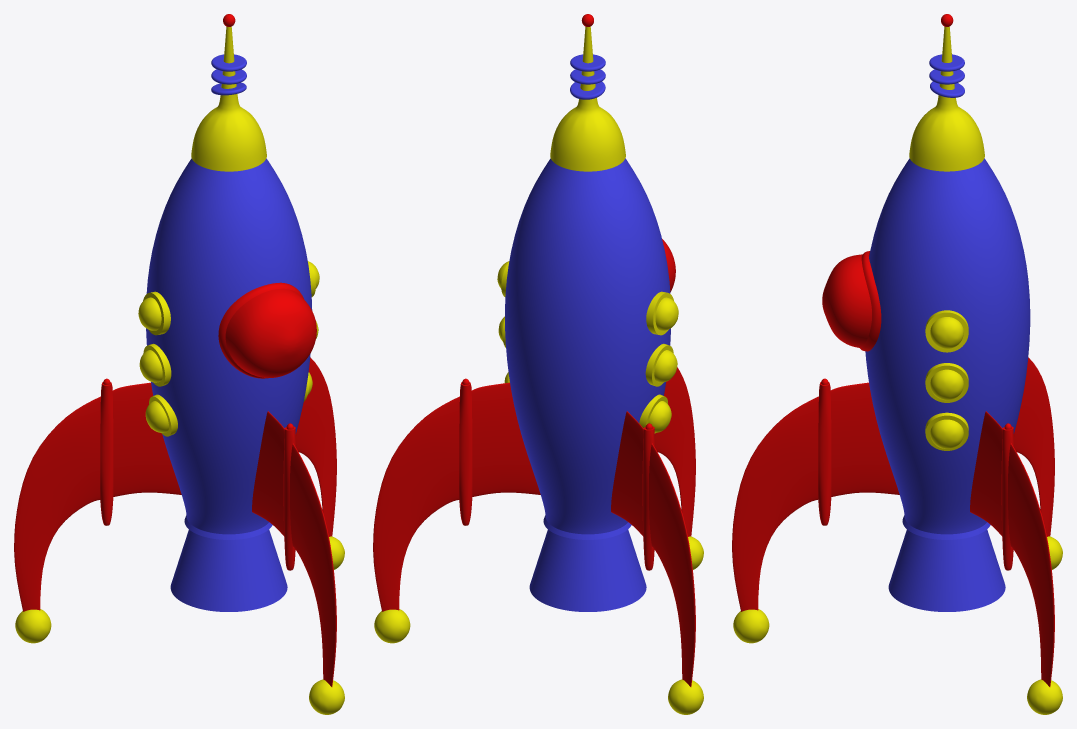
Rendered from Foguete Modelagem.fbx.
3 views of the same model, side by side, from view 1: azimuth 30°, elevation 25°; view 2: azimuth 150°, elevation 25°; view 3: azimuth 270°, elevation 25° (orthographic).
Visible parts, largest first — view 1: polySurface3; view 2: polySurface3; view 3: polySurface3.
Boxes of the visible parts, <box> form: polySurface3: <box>14,14,344,714</box>; polySurface3: <box>373,14,703,714</box>; polySurface3: <box>732,14,1062,714</box>.
Size of the model in its own units: 9.04 by 16.68 by 7.97.
